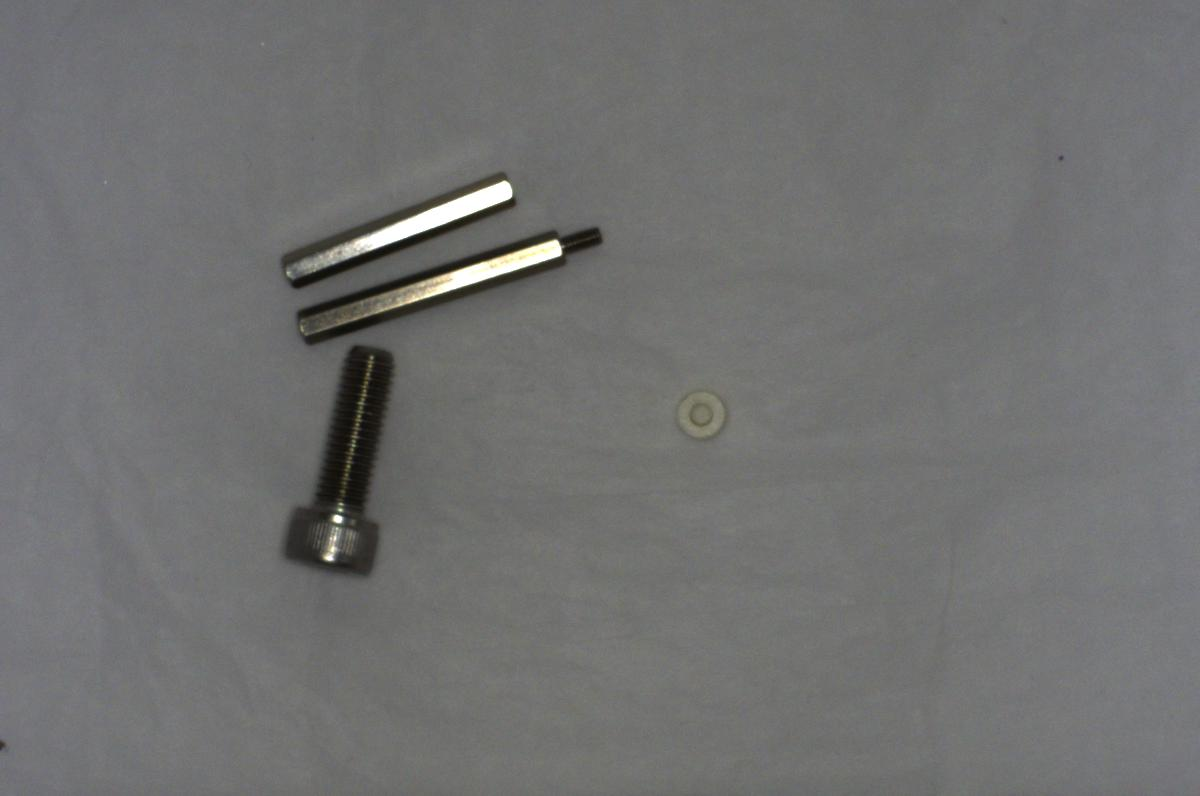Double hexagonal column: (279, 169, 515, 285)
Hexagon screw: (278, 343, 401, 580)
Hexagonal steel column: (295, 225, 613, 346)
Plastic cushion pillar: (657, 382, 750, 460)
